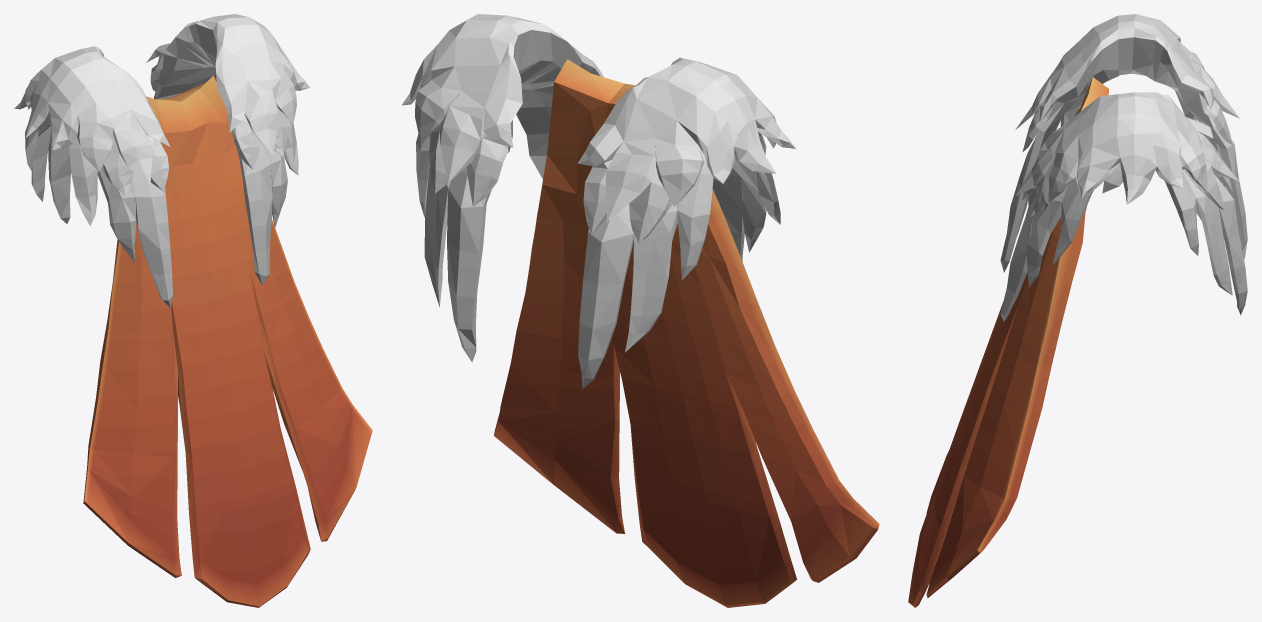
File: CharSkyKid_Wing_AP16OrangeLove.glb
3 renders of one model, left to right at view 1: azimuth 30°, elevation 25°; view 2: azimuth 150°, elevation 25°; view 3: azimuth 270°, elevation 25°, orthographic. The views are drawn at different scales.
Parts seen in each view (by area): view 1: CharSkyKid_Wing_AP16OrangeLove; view 2: CharSkyKid_Wing_AP16OrangeLove; view 3: CharSkyKid_Wing_AP16OrangeLove.
Boxes of the visible parts, bbox=[...] form: CharSkyKid_Wing_AP16OrangeLove: bbox=[14, 14, 372, 607]; CharSkyKid_Wing_AP16OrangeLove: bbox=[401, 14, 879, 607]; CharSkyKid_Wing_AP16OrangeLove: bbox=[908, 14, 1247, 607].
Size of the model in its own units: 5.85 by 9.65 by 5.44.
Materials: 1 (1 with a texture image).
